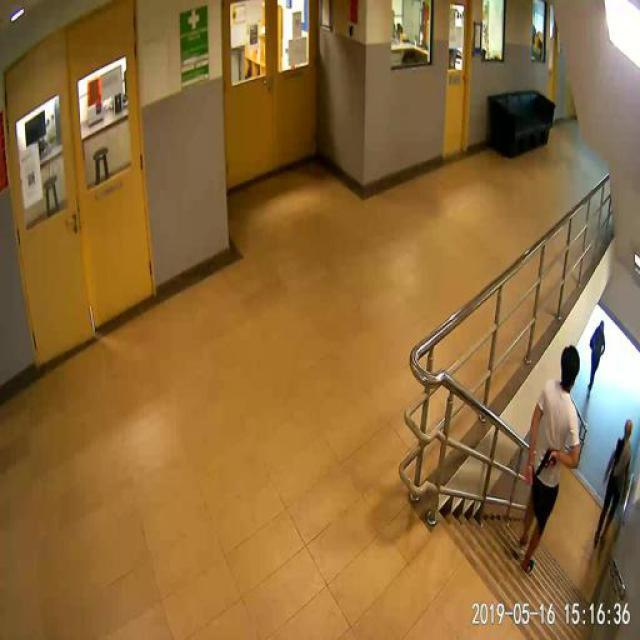weapon: (533, 446, 558, 479)
